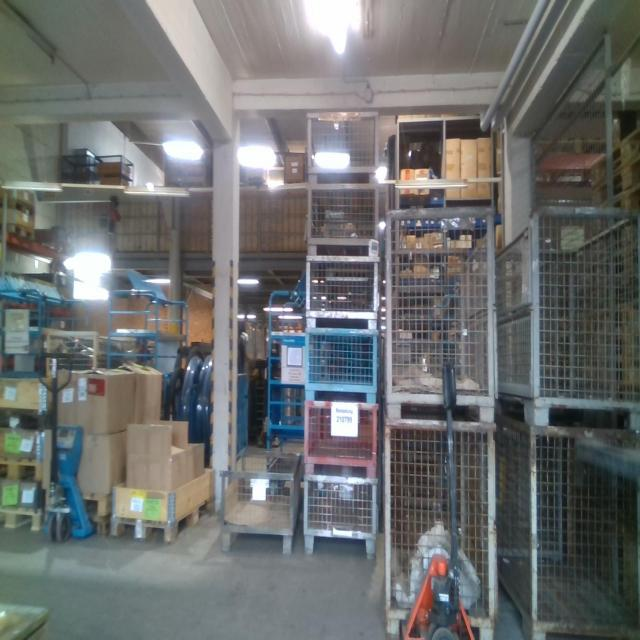pallet: (109, 493, 216, 545), (594, 130, 638, 183), (595, 163, 638, 202), (0, 405, 52, 433), (0, 457, 44, 487), (0, 505, 44, 534), (0, 197, 33, 218)
pallet_truck: (392, 359, 493, 636), (33, 347, 99, 545)
stillage: (497, 201, 639, 433), (496, 410, 638, 636), (379, 394, 500, 640), (380, 205, 499, 424), (221, 448, 305, 556), (301, 471, 379, 561), (302, 326, 379, 406), (302, 405, 379, 479), (304, 255, 381, 328), (304, 183, 382, 255), (304, 111, 379, 184)
